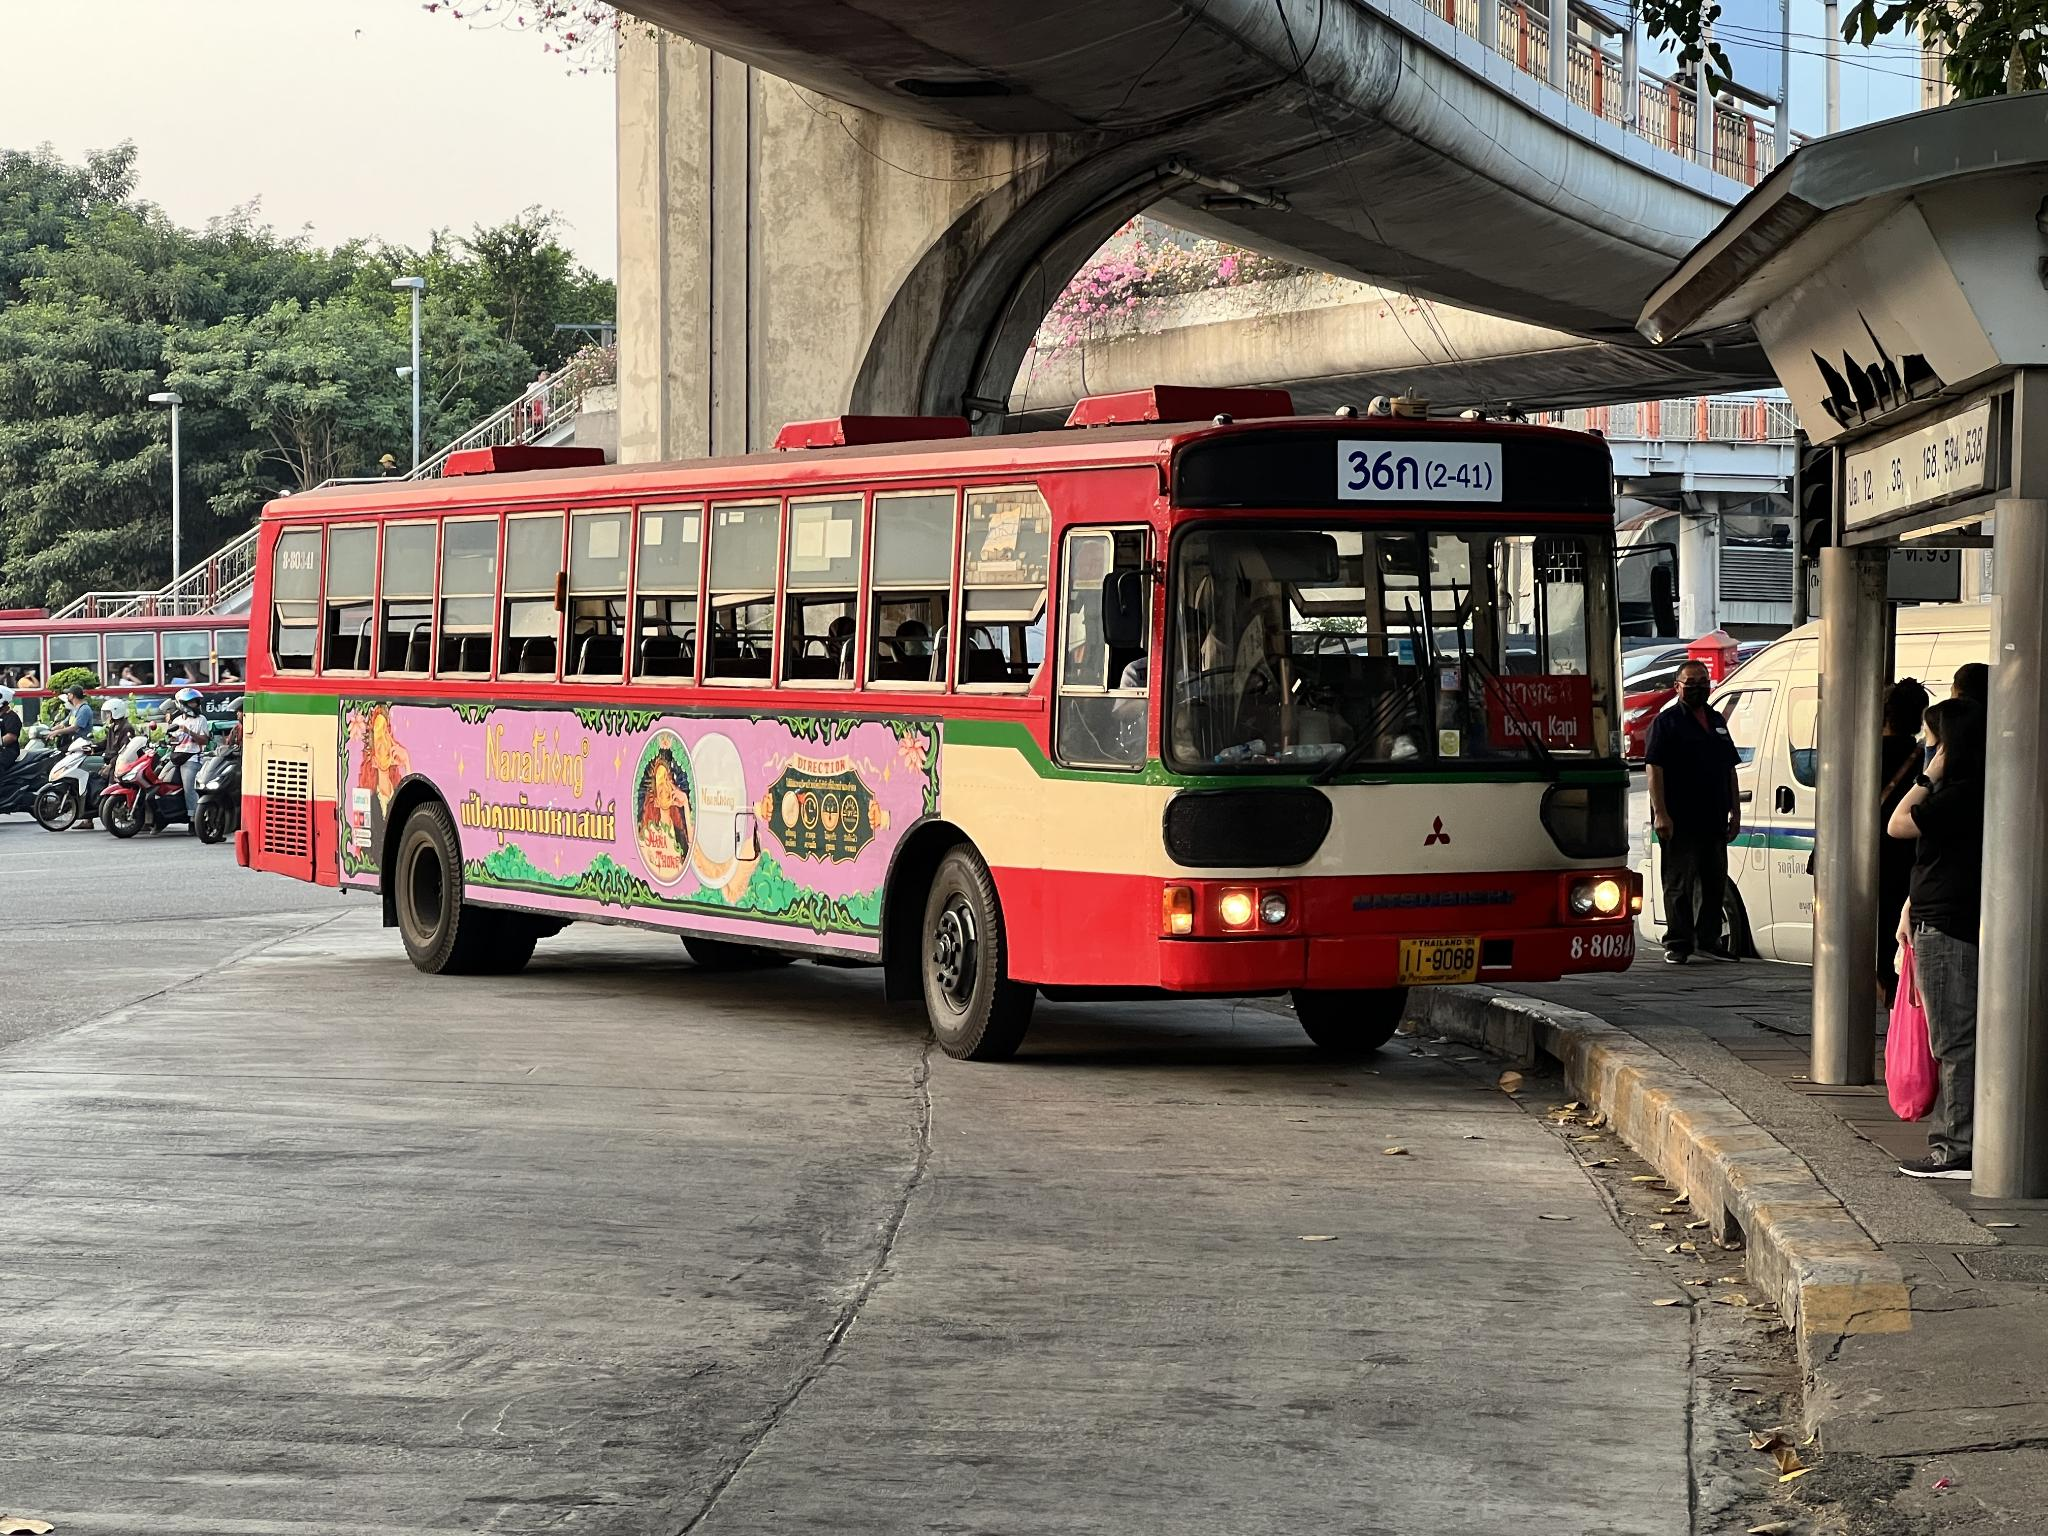BMTA-bus: (227, 408, 1648, 1063)
Bus Line Number: (1342, 437, 1511, 508)
Bus Side Number: (1561, 921, 1650, 966)
Destination Sign: (1480, 666, 1598, 752)
